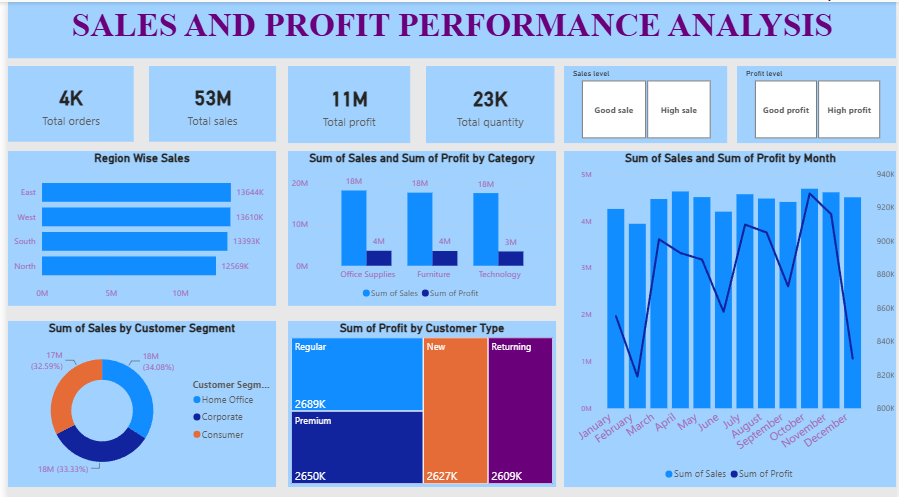

What the dashboard file says about the page in this screenshot:
{"tool":"powerbi","page":{"name":"Page 1","canvas":[1280,720],"ordinal":0},"visuals":[{"type":"textbox","box":[0,0,1280,80.6],"z":0},{"type":"card","fields":{"Values":["Superstore_Data_2_1.Total orders"]},"box":[0,92.4,181.4,109.2],"z":1000},{"type":"card","fields":{"Values":["Superstore_Data_2_1.Total sales"]},"box":[203.3,92.4,183.1,109.2],"z":2000},{"type":"card","fields":{"Values":["Superstore_Data_2_1.Total profit"]},"box":[403.1,92.4,176.4,110.9],"z":3000},{"type":"card","fields":{"Values":["Superstore_Data_2_1.Total quantity"]},"box":[601.4,92.4,184.8,110.9],"z":4000},{"type":"slicer","fields":{"Values":["Superstore_Data_2_1.Sales level"]},"box":[801.3,92.4,235.2,110.9],"z":5000},{"type":"slicer","fields":{"Values":["Superstore_Data_2_1.Profit level"]},"box":[1049.9,92.4,230.1,110.9],"z":5001},{"type":"barChart","title":"Region Wise Sales","fields":{"Category":["Superstore_Data_2_1.Region"],"Y":["Sum(Superstore_Data_2_1.Sales)"]},"box":[0,214.6,385.9,223.2],"z":5002},{"type":"clusteredColumnChart","fields":{"Category":["Superstore_Data_2_1.Category"],"Y":["Sum(Superstore_Data_2_1.Sales)","Sum(Superstore_Data_2_1.Profit)"]},"box":[403.2,214.6,385.9,223.2],"z":5003},{"type":"donutChart","fields":{"Category":["Superstore_Data_2_1.Customer Segment"],"Y":["Sum(Superstore_Data_2_1.Sales)"]},"box":[0,459.4,385.9,239],"z":5004},{"type":"treemap","fields":{"Group":["Superstore_Data_2_1.Customer Type"],"Values":["Sum(Superstore_Data_2_1.Profit)"]},"box":[403.2,459.4,385.9,239],"z":5005},{"type":"lineClusteredColumnComboChart","fields":{"Category":["Superstore_Data_2_1.Order Date.Variation.Date Hierarchy.Month"],"Y":["Sum(Superstore_Data_2_1.Sales)"],"Y2":["Sum(Superstore_Data_2_1.Profit)"]},"box":[800.6,214.6,479.5,483.8],"z":5006}]}

Visuals, with their boxes in screenshot pixels (x1, y1, x2, y2), scaled from the page's 1280x720 canvas onto the 899x497 screenshot:
textbox: x1=0, y1=0, x2=898, y2=56
card - Superstore_Data_2_1.Total orders: x1=0, y1=64, x2=127, y2=139
card - Superstore_Data_2_1.Total sales: x1=143, y1=64, x2=271, y2=139
card - Superstore_Data_2_1.Total profit: x1=283, y1=64, x2=407, y2=140
card - Superstore_Data_2_1.Total quantity: x1=422, y1=64, x2=552, y2=140
slicer - Superstore_Data_2_1.Sales level: x1=563, y1=64, x2=728, y2=140
slicer - Superstore_Data_2_1.Profit level: x1=737, y1=64, x2=898, y2=140
"Region Wise Sales" barChart: x1=0, y1=148, x2=271, y2=302
clusteredColumnChart - Superstore_Data_2_1.Category x Sum(Superstore_Data_2_1.Sales): x1=283, y1=148, x2=554, y2=302
donutChart - Superstore_Data_2_1.Customer Segment x Sum(Superstore_Data_2_1.Sales): x1=0, y1=317, x2=271, y2=482
treemap - Superstore_Data_2_1.Customer Type x Sum(Superstore_Data_2_1.Profit): x1=283, y1=317, x2=554, y2=482
lineClusteredColumnComboChart - Superstore_Data_2_1.Order Date.Variation.Date Hierarchy.Month x Sum(Superstore_Data_2_1.Sales): x1=562, y1=148, x2=898, y2=482
